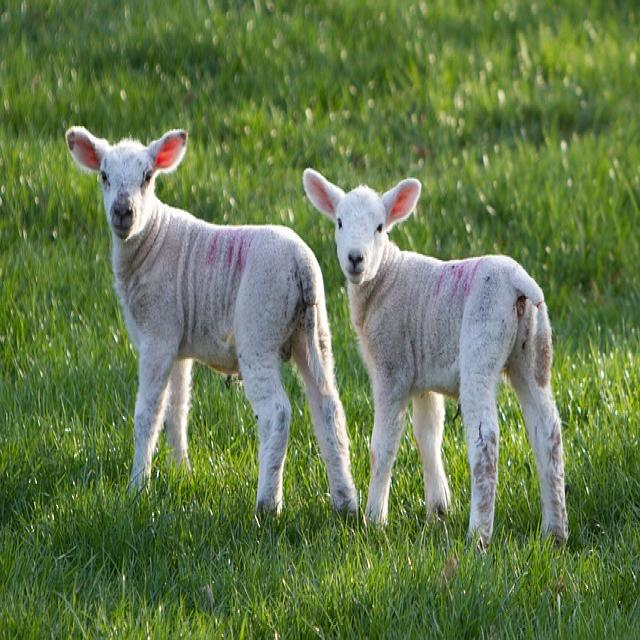goat: (64, 128, 359, 521), (302, 170, 568, 553)
